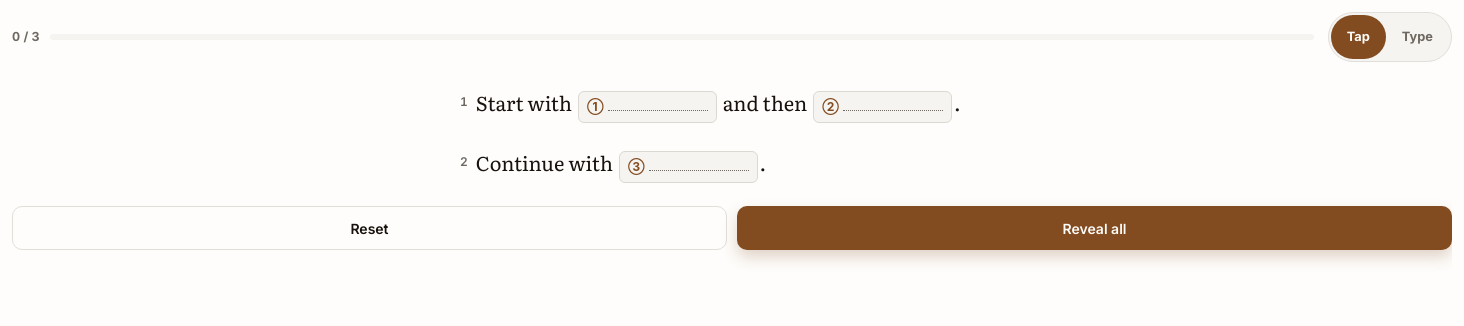
Test: ClozeTrainer › Enter moves to the next blank so the keyboard stays up
Click the button "Type" at (1417,37), box top-left (1386, 15), bottom-right (1449, 59)
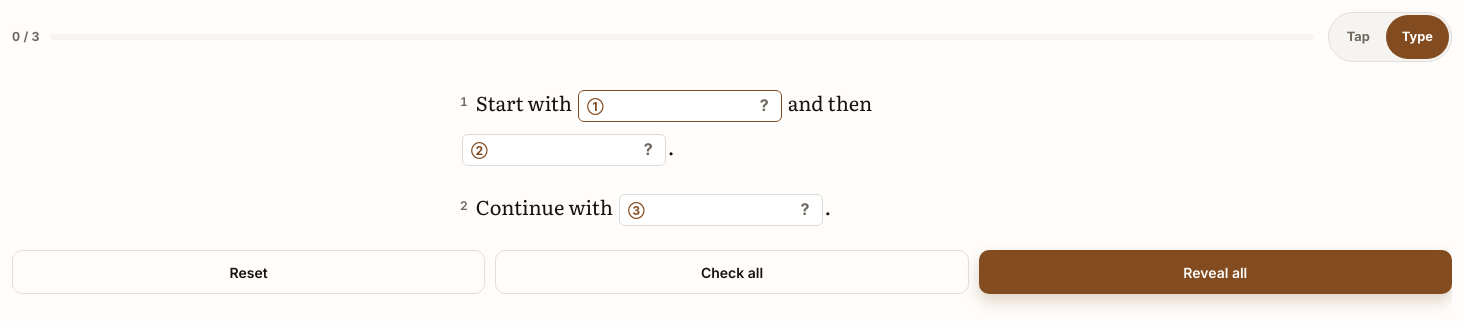
Type "a bright signal" into the 1st field with test id "cloze-input" at (682,104), box top-left (610, 92), bottom-right (754, 116)
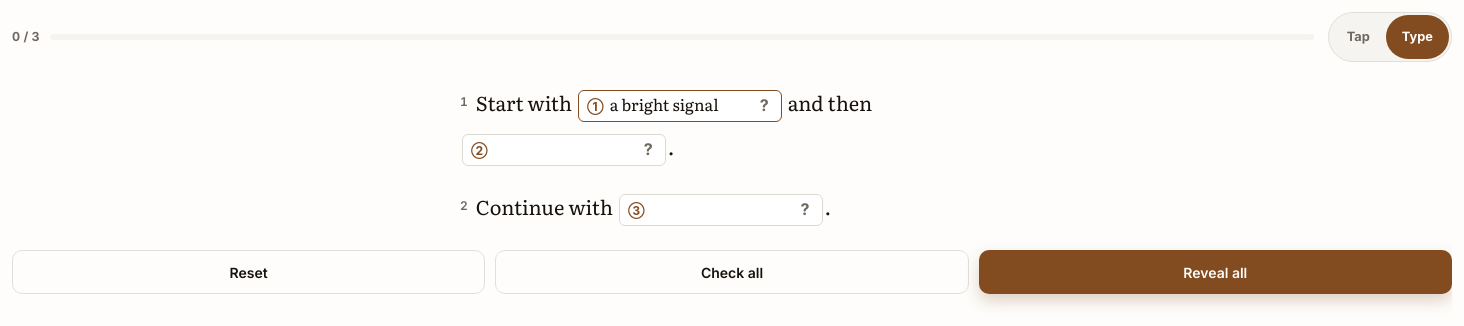
Press Enter in the 1st field with test id "cloze-input", box top-left (610, 92), bottom-right (754, 116)
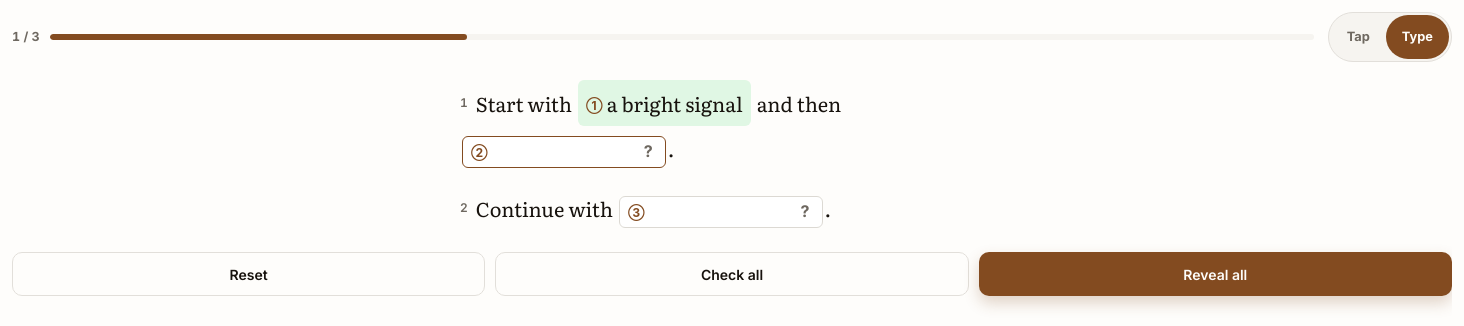
Expected: the text "1 / 3" is shown, top-left (12, 28), bottom-right (40, 46)
